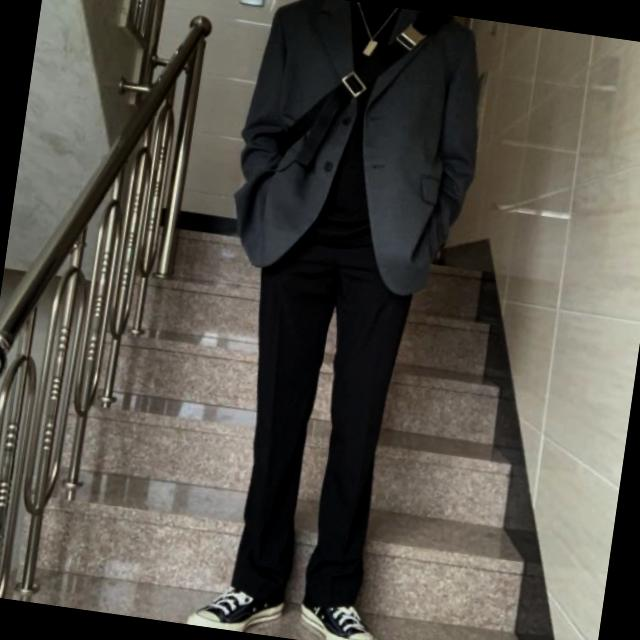blazer: (220, 0, 498, 303)
slacks: (210, 208, 420, 614)
